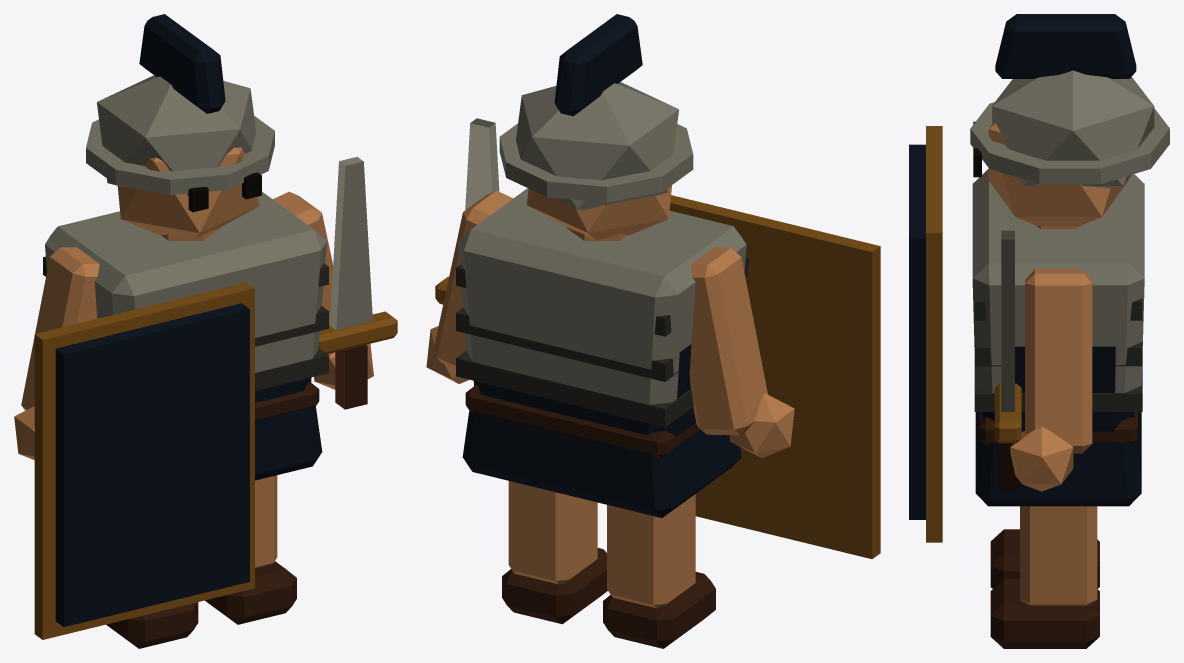
Rendered from legionary.obj.
The picture shows the model from 3 angles, left to right: view 1: azimuth 30°, elevation 25°; view 2: azimuth 150°, elevation 25°; view 3: azimuth 270°, elevation 25°; orthographic projection. The views are drawn at different scales.
Visible parts, largest first — view 1: body, tool; view 2: body, tool; view 3: body, tool.
Part boxes in pixels (left/top/right/bottom): body: left=14, top=14, right=373, bottom=648; tool: left=318, top=157, right=397, bottom=409; body: left=426, top=14, right=880, bottom=648; tool: left=435, top=118, right=499, bottom=304; body: left=909, top=14, right=1169, bottom=648; tool: left=994, top=230, right=1021, bottom=490.
Bounding box in the file's own units: 0.2772 × 0.3905 × 0.1552.
